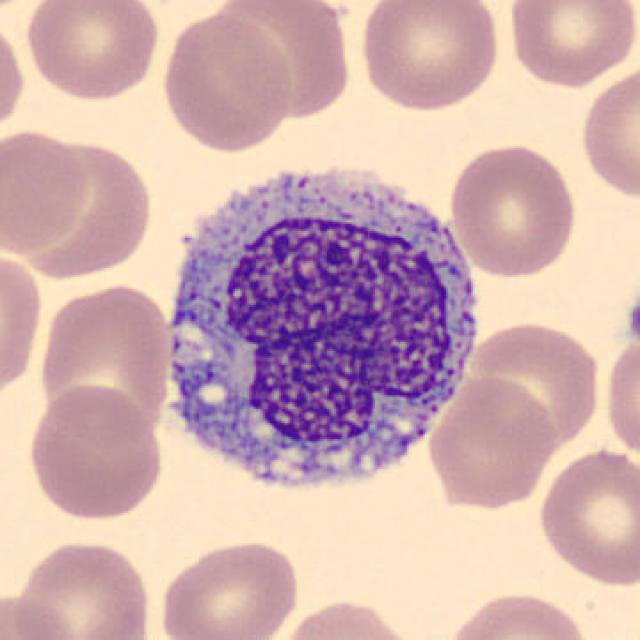Monocyte: (153, 148, 487, 511)
Platelets: (624, 295, 640, 349)
RBC: (34, 277, 176, 446), (9, 132, 158, 284), (23, 382, 167, 524), (157, 9, 295, 155), (464, 317, 606, 457), (444, 140, 580, 280), (425, 372, 558, 511), (205, 0, 350, 115), (356, 0, 503, 113), (155, 536, 304, 640), (9, 536, 156, 640), (534, 444, 638, 589), (22, 0, 164, 104), (503, 0, 640, 90), (0, 125, 92, 257), (576, 60, 638, 204), (442, 587, 594, 640), (0, 245, 46, 404), (276, 594, 422, 640), (601, 332, 640, 468), (0, 589, 82, 640), (0, 14, 28, 139)
